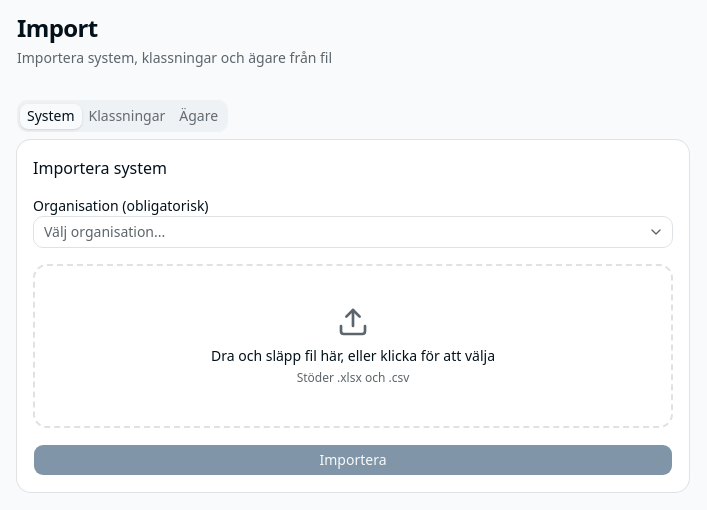
ImportPage › Organisation-val (System-fliken) › döljer organisations-dropdown i Ägare-fliken
Click the tab "Ägare" at coordinates (199, 116), box [172,104,225,128]
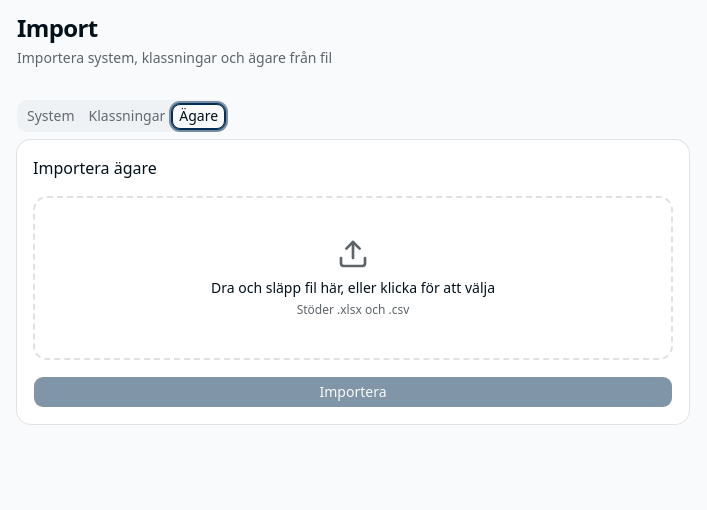
Check: the dropdown "Välj organisation" is gone
